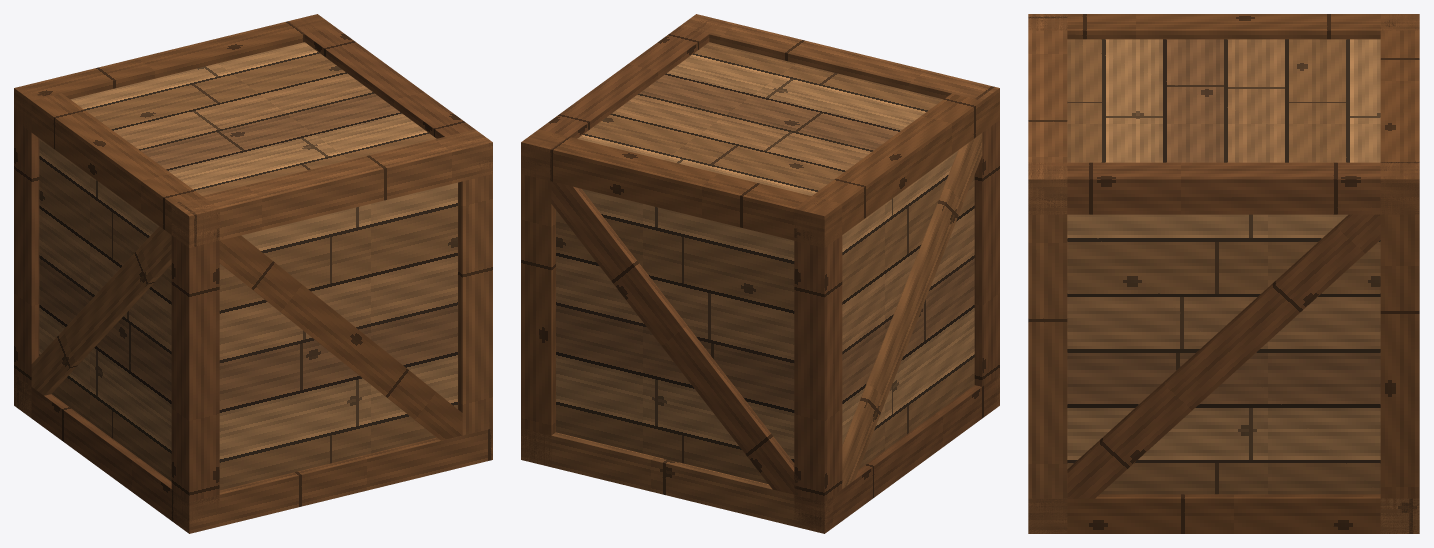
File: wooden_crate.glb
3 views of the same model, side by side, from view 1: azimuth 30°, elevation 25°; view 2: azimuth 150°, elevation 25°; view 3: azimuth 270°, elevation 25° (orthographic). The views are drawn at different scales.
Parts seen in each view (by area): view 1: wooden_crate; view 2: wooden_crate; view 3: wooden_crate.
Boxes of the visible parts, x1,y1,x2,y2 form: wooden_crate: (14, 14, 492, 533); wooden_crate: (521, 14, 999, 533); wooden_crate: (1028, 14, 1419, 533).
Bounding box in the file's own units: 0.8 × 0.8 × 0.8.
Materials: 1 (1 with a texture image).
